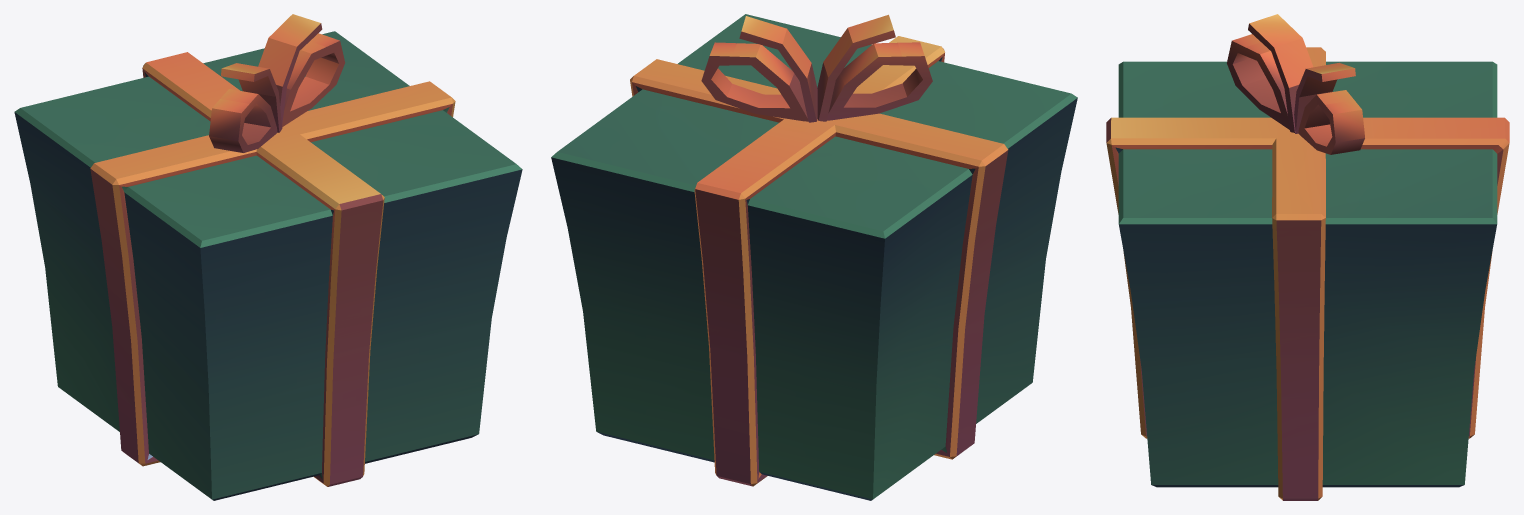
Rendered from package_DarkGreen.fbx.
The picture shows the model from 3 angles, left to right: view 1: azimuth 30°, elevation 25°; view 2: azimuth 150°, elevation 25°; view 3: azimuth 270°, elevation 25°; orthographic projection. The views are drawn at different scales.
Visible parts, largest first — view 1: Package_Red; view 2: Package_Red; view 3: Package_Red.
Part boxes in pixels (bbox=[...]): Package_Red: bbox=[14, 14, 522, 500]; Package_Red: bbox=[551, 14, 1077, 500]; Package_Red: bbox=[1106, 14, 1509, 500].
Size of the model in its own units: 0.3221 by 0.3419 by 0.3221.
